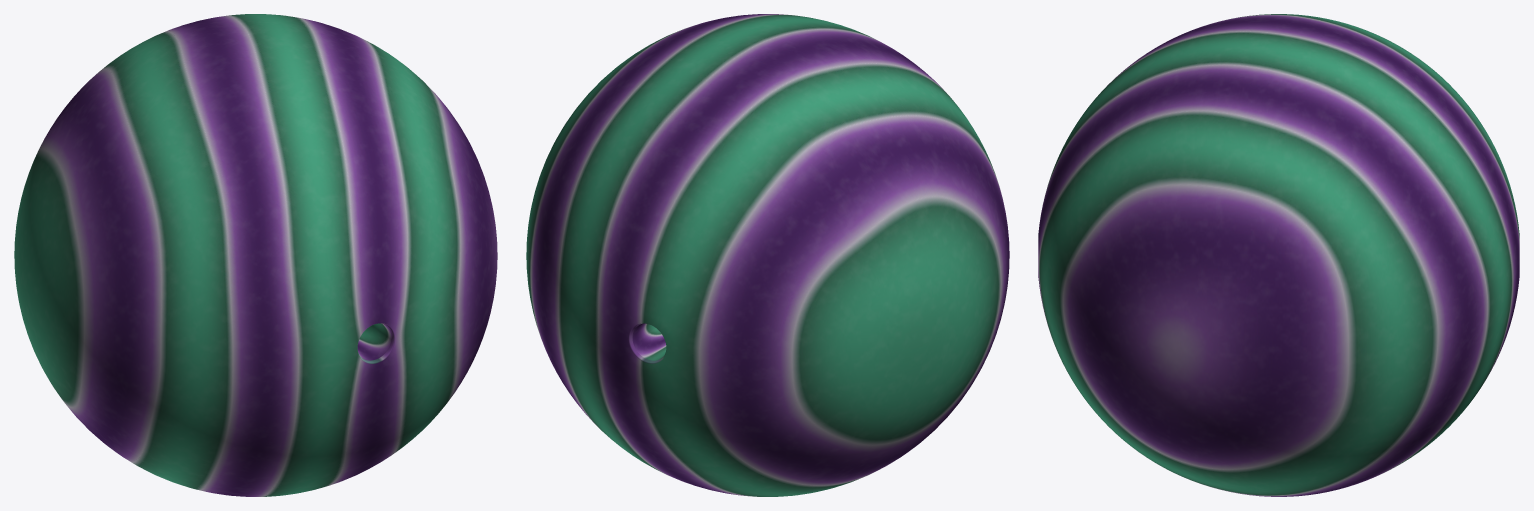
Rendered from fluorite-12mm.glb.
3 views of the same model, side by side, from view 1: azimuth 30°, elevation 25°; view 2: azimuth 150°, elevation 25°; view 3: azimuth 270°, elevation 25° (orthographic).
Visible parts, largest first — view 1: fluorite.001; view 2: fluorite.001; view 3: fluorite.001.
Part boxes in pixels (bbox=[...]): fluorite.001: bbox=[14, 14, 497, 496]; fluorite.001: bbox=[526, 14, 1009, 496]; fluorite.001: bbox=[1038, 14, 1519, 496].
Size of the model in its own units: 0.012 by 0.012 by 0.012.
Materials: 2 (1 with a texture image).
